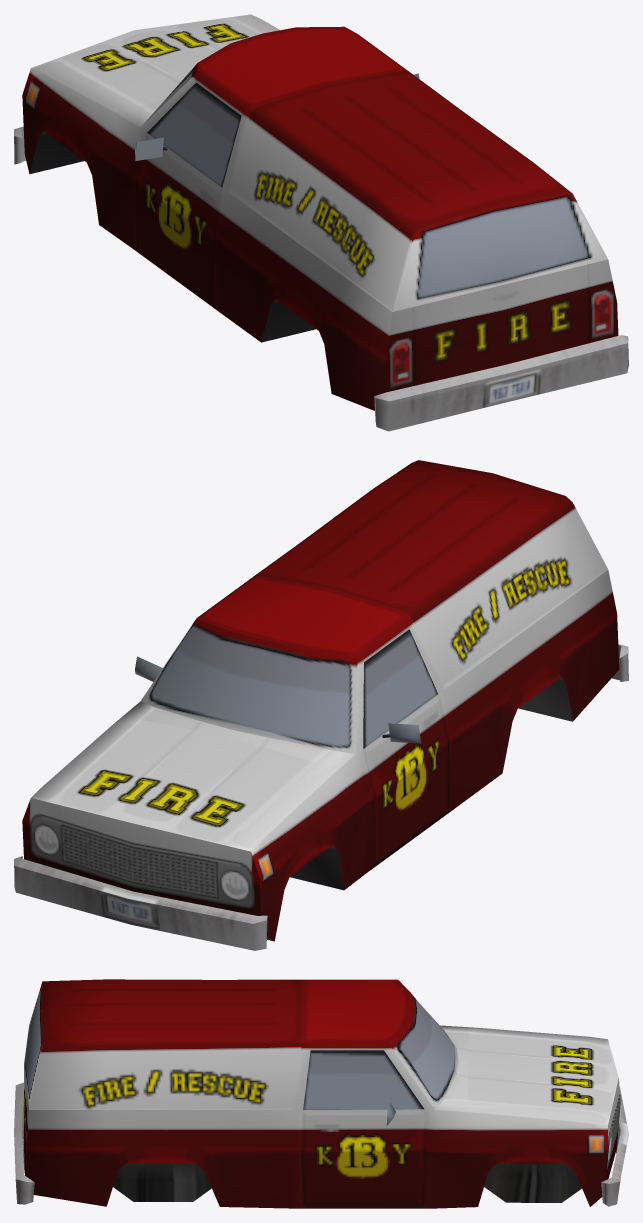
Rendered from Vehicles_PickUpVan.FBX.
3 renders of one model, top to bottom at view 1: azimuth 30°, elevation 25°; view 2: azimuth 150°, elevation 25°; view 3: azimuth 270°, elevation 25°, orthographic. The views are drawn at different scales.
Visible parts, largest first — view 1: Vehicles_PickUpVan; view 2: Vehicles_PickUpVan; view 3: Vehicles_PickUpVan.
Part boxes in pixels (x1,y1,x2,y2): Vehicles_PickUpVan: [14, 14, 628, 431]; Vehicles_PickUpVan: [14, 460, 628, 950]; Vehicles_PickUpVan: [14, 979, 628, 1208].
Size of the model in its own units: 97.68 by 70.76 by 226.
1 material, 1 textured.
